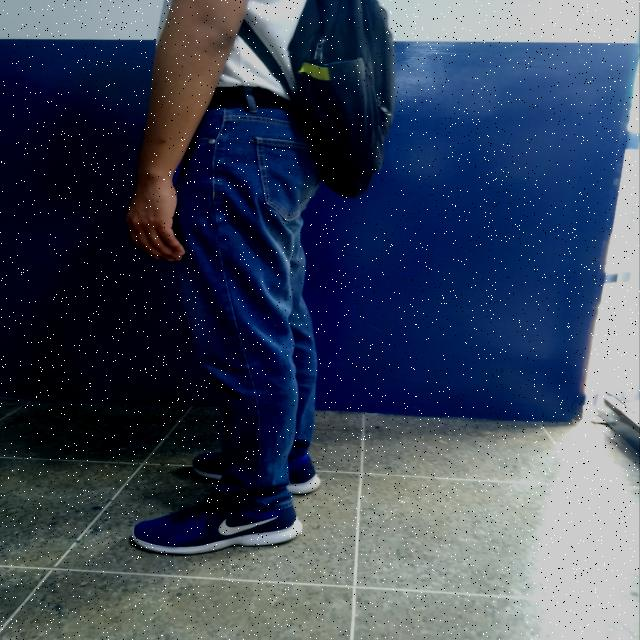pantalon_oscuro: (172, 106, 322, 512)
